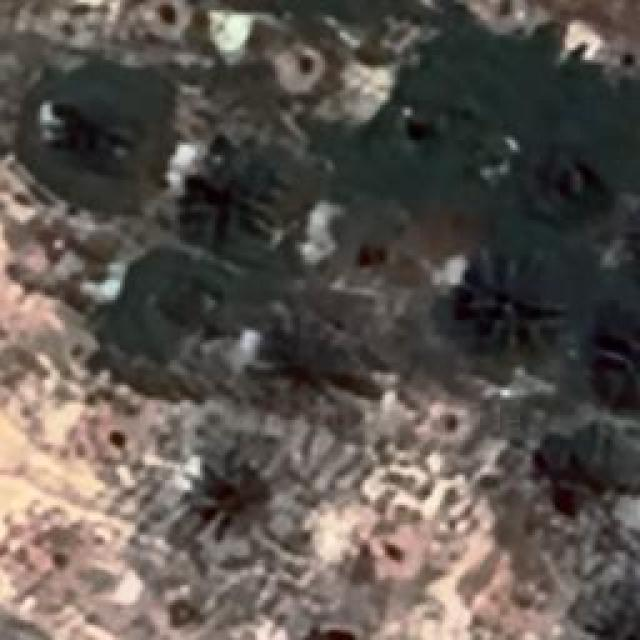PalmTree: (58, 49, 611, 616), (83, 108, 312, 366), (50, 56, 162, 180), (195, 116, 290, 244), (460, 260, 558, 368), (532, 418, 636, 508), (195, 450, 275, 540), (597, 305, 640, 402)
